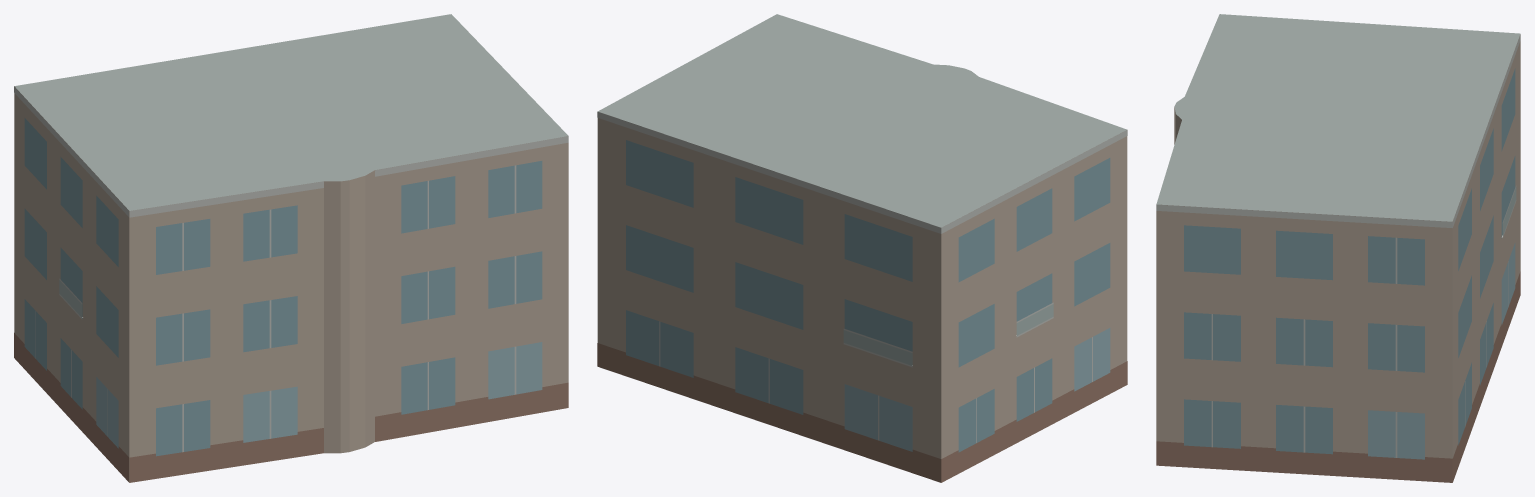
The model's file is survey-upis-32985233.glb.
3 views of the same model, side by side, from view 1: azimuth 30°, elevation 25°; view 2: azimuth 150°, elevation 25°; view 3: azimuth 270°, elevation 25° (orthographic). The views are drawn at different scales.
Parts seen in each view (by area): view 1: survey-upis-32985233.tmp; view 2: survey-upis-32985233.tmp; view 3: survey-upis-32985233.tmp.
Boxes of the visible parts, box(x1,y1,x2,y2) form: survey-upis-32985233.tmp: box(14, 14, 568, 482); survey-upis-32985233.tmp: box(597, 14, 1127, 482); survey-upis-32985233.tmp: box(1156, 14, 1520, 482).
Bounding box in the file's own units: 16.99 × 9.95 × 12.59.
